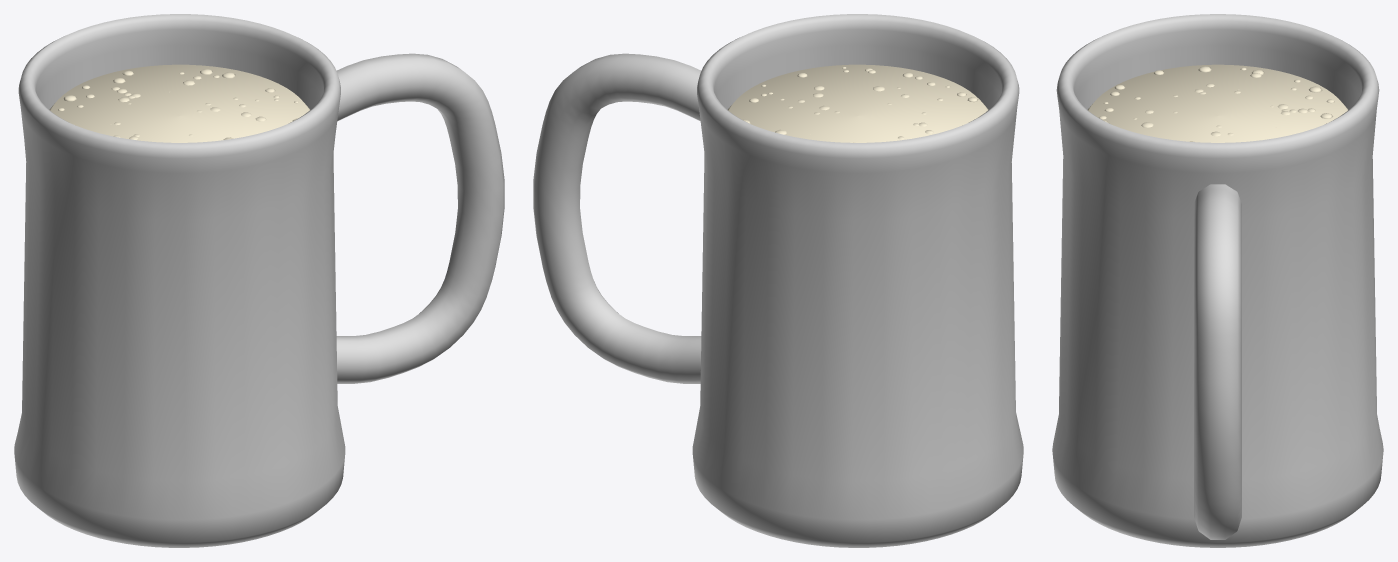
Rendered from beer_mug.glb.
The picture shows the model from 3 angles, left to right: view 1: azimuth 30°, elevation 25°; view 2: azimuth 150°, elevation 25°; view 3: azimuth 270°, elevation 25°; orthographic projection.
Visible parts, largest first — view 1: GlassBody, Handle, Foam; view 2: GlassBody, Handle, Foam; view 3: GlassBody, Handle, Foam.
Boxes of the visible parts, x1,y1,x2,y2 form: GlassBody: [14, 14, 345, 547]; Handle: [336, 53, 504, 383]; Foam: [49, 64, 309, 142]; GlassBody: [692, 14, 1023, 547]; Handle: [533, 53, 701, 383]; Foam: [728, 64, 988, 142]; GlassBody: [1052, 14, 1383, 547]; Handle: [1194, 184, 1241, 539]; Foam: [1088, 64, 1347, 142].
Size of the model in its own units: 0.2461 by 0.207 by 0.152.
